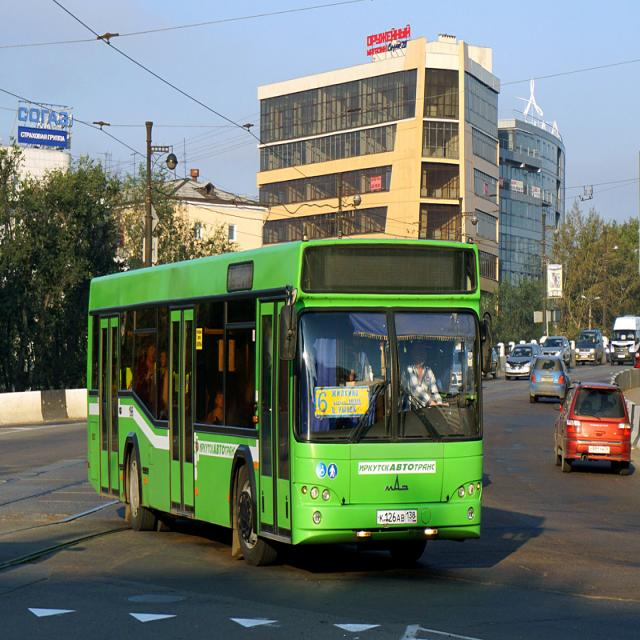number-of-bus: (317, 389, 330, 416)
